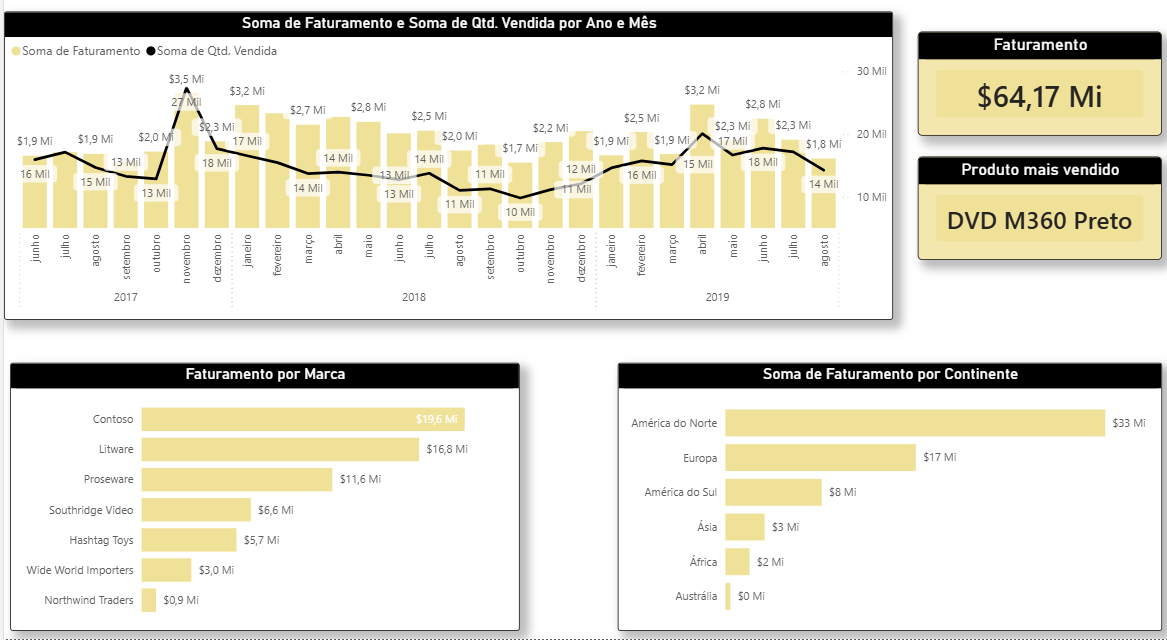

Layout of this report page (visuals, bound fields, positions):
{"tool":"powerbi","page":{"name":"Página 1","canvas":[1280,720],"ordinal":0},"visuals":[{"type":"cardVisual","title":"Faturamento","fields":{"Data":["Sum(BaseVendas.Faturamento)"]},"box":[1003.3,52.3,268.1,114.7],"z":0},{"type":"cardVisual","title":"Produto mais vendido","fields":{"Data":["Min(BaseVendas.Produto)"]},"box":[1003.3,188.9,268.1,113.8],"z":1000},{"type":"barChart","title":" Faturamento por Marca","fields":{"Y":["Sum(BaseVendas.Faturamento)"],"Category":["BaseVendas.Marca"]},"box":[6.7,415.6,559,294.2],"z":2000},{"type":"lineStackedColumnComboChart","fields":{"Y":["Sum(BaseVendas.Faturamento)"],"Category":["BaseVendas.Data da Venda.Variation.Hierarquia de datas.Ano","BaseVendas.Data da Venda.Variation.Hierarquia de datas.Mês"],"Y2":["Sum(BaseVendas.Qtd. Vendida)"]},"box":[0,29.5,976.3,338.1],"z":3000},{"type":"barChart","fields":{"Category":["BaseVendas.Continente"],"Y":["Sum(BaseVendas.Faturamento)"]},"box":[673.6,415.6,597.8,294.2],"z":4000}]}

Visuals, with their boxes in screenshot pixels (x1, y1, x2, y2), scaled from the page's 1280x720 canvas onto the 1167x640 screenshot:
"Faturamento" cardVisual: locate(915, 46, 1159, 148)
"Produto mais vendido" cardVisual: locate(915, 168, 1159, 269)
" Faturamento por Marca" barChart: locate(6, 369, 516, 631)
lineStackedColumnComboChart - Sum(BaseVendas.Faturamento) x BaseVendas.Data da Venda.Variation.Hierarquia de datas.Ano: locate(0, 26, 890, 327)
barChart - BaseVendas.Continente x Sum(BaseVendas.Faturamento): locate(614, 369, 1159, 631)
